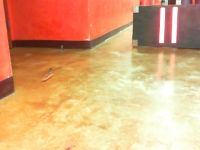switch: (171, 8, 178, 45), (159, 7, 165, 44)
